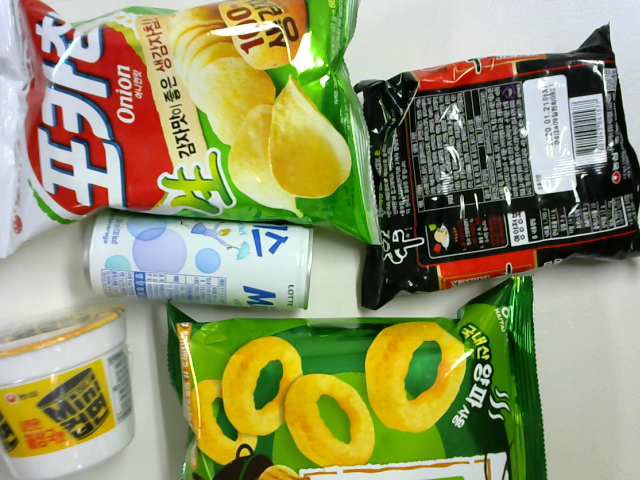Grilled_Onions: (159, 282, 549, 480)
Hejangmini: (3, 302, 141, 480)
Milkies_250ml: (77, 208, 319, 320)
Pocachip_Onion: (5, 8, 389, 246)
Sinramen_Black: (345, 34, 640, 301)
